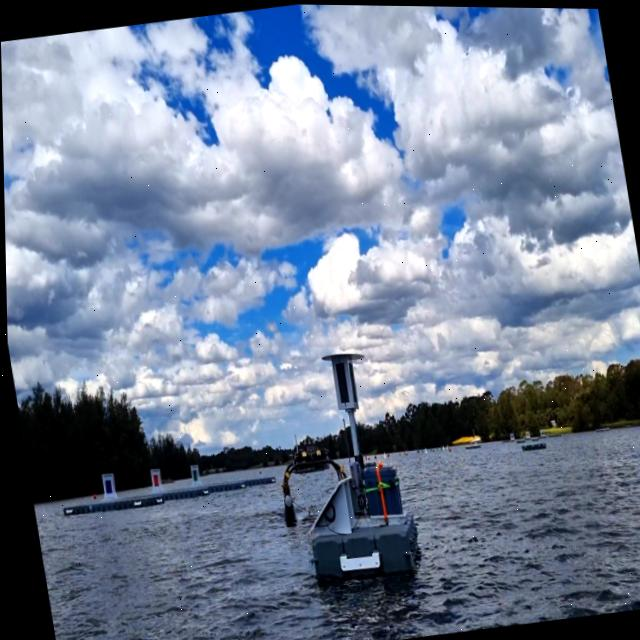led: (332, 359, 352, 409)
